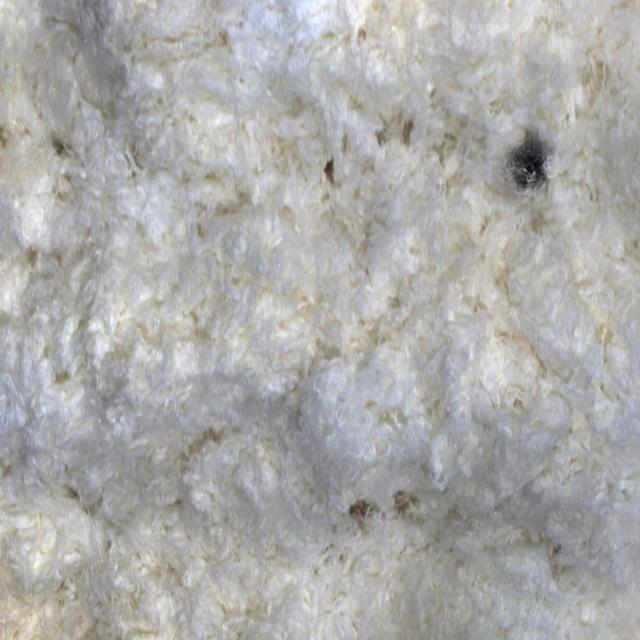dust: (492, 99, 577, 233)
